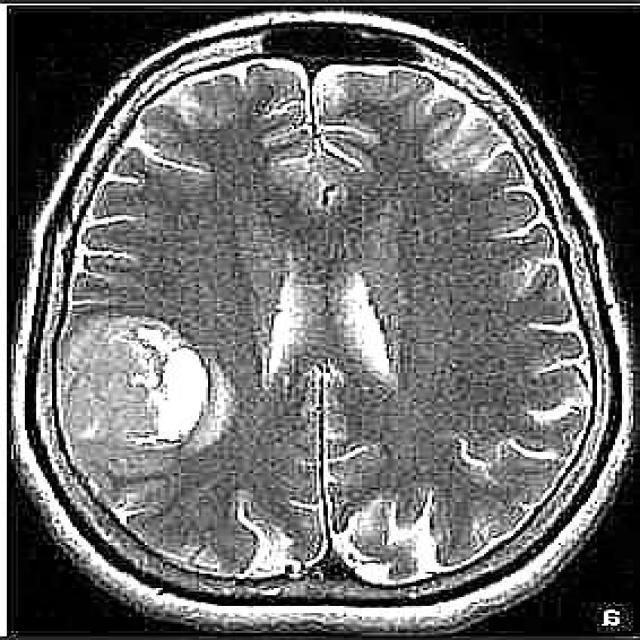brain tumor: (57, 314, 208, 446)
